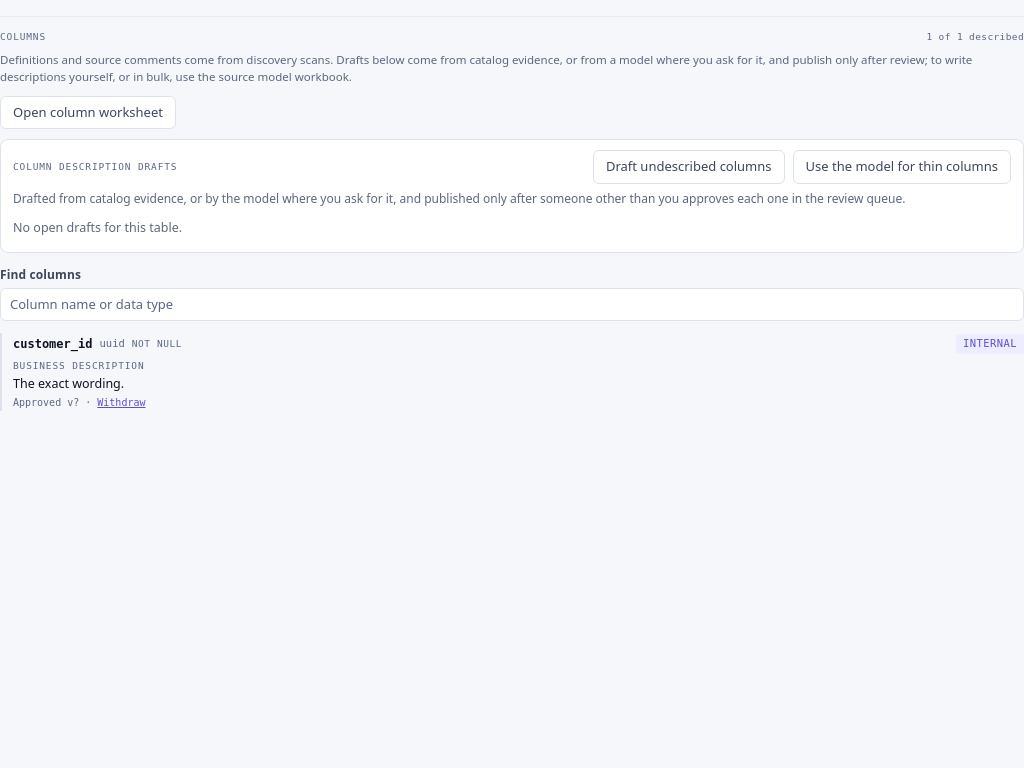
Test: shows the text being retired, not just a reason box
This screenshot has width=1024, height=768.
Click the button "Withdraw" at (121,403), box [97, 397, 146, 408]
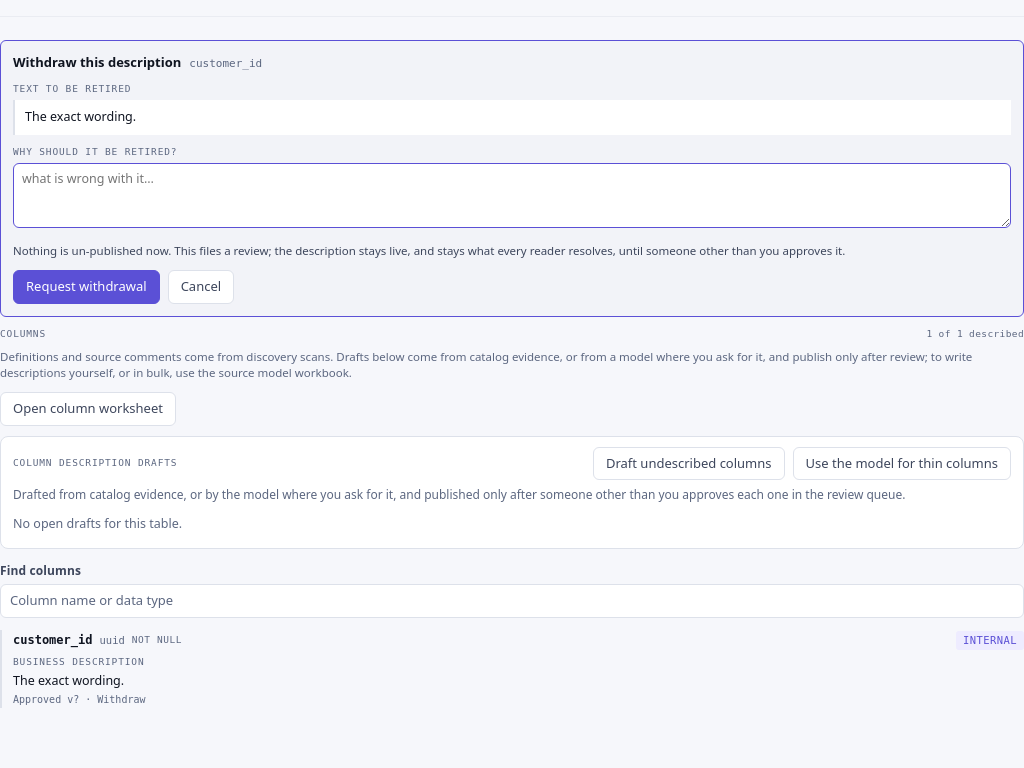
Expected: the text "The exact wording." below "Text to be retired" is shown, [25, 108, 136, 125]
Expected: the text "Nothing is un-published now" is shown, [13, 243, 845, 258]
